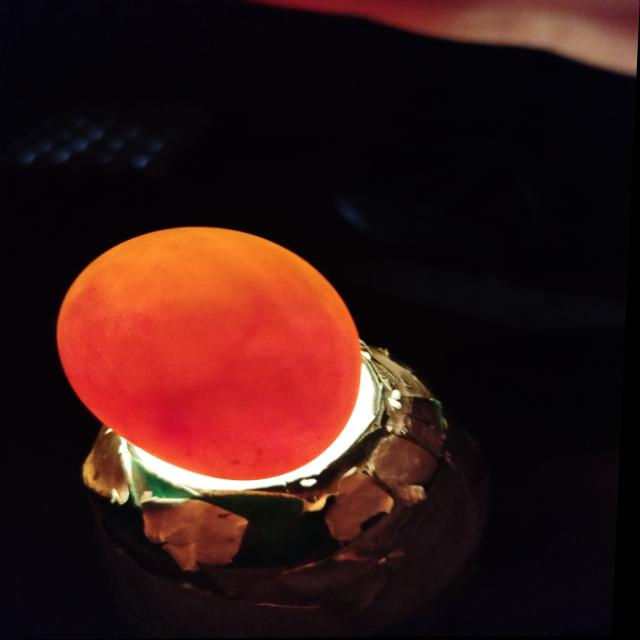Gema Quebrada: (61, 285, 365, 481)
